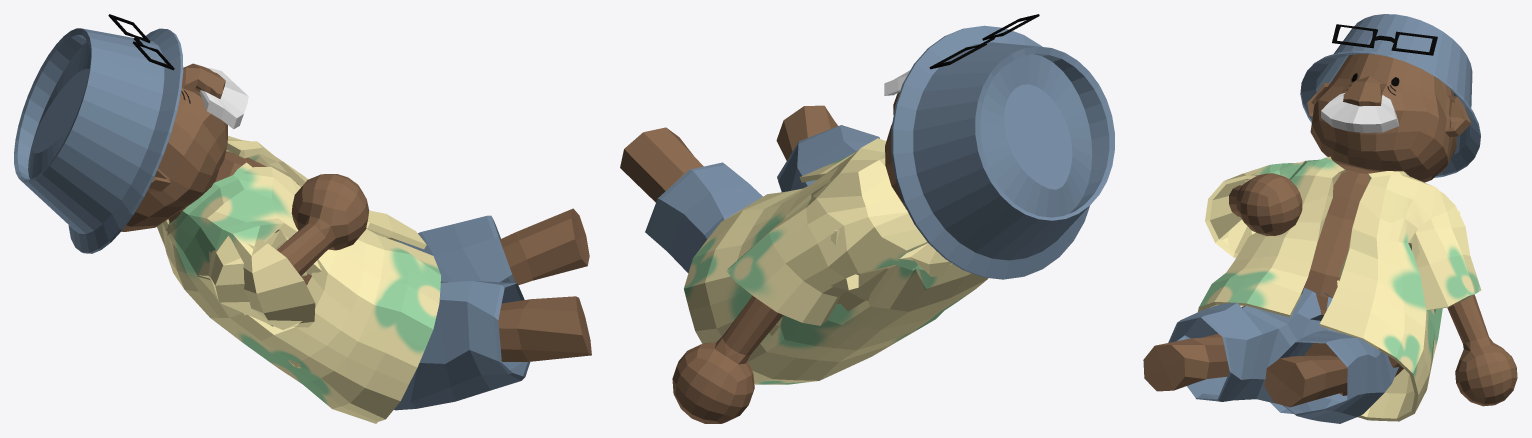
The model's file is pedro.glb.
3 views of the same model, side by side, from view 1: azimuth 30°, elevation 25°; view 2: azimuth 150°, elevation 25°; view 3: azimuth 270°, elevation 25° (orthographic). The views are drawn at different scales.
Visible parts, largest first — view 1: pedro.001; view 2: pedro.001; view 3: pedro.001.
Boxes of the visible parts, box(x1,y1,x2,y2) form: pedro.001: box(14, 14, 591, 423); pedro.001: box(620, 14, 1114, 423); pedro.001: box(1143, 14, 1517, 423).
Bounding box in the file's own units: 1.59 × 1.16 × 1.26.
Materials: 5 (3 with a texture image).
